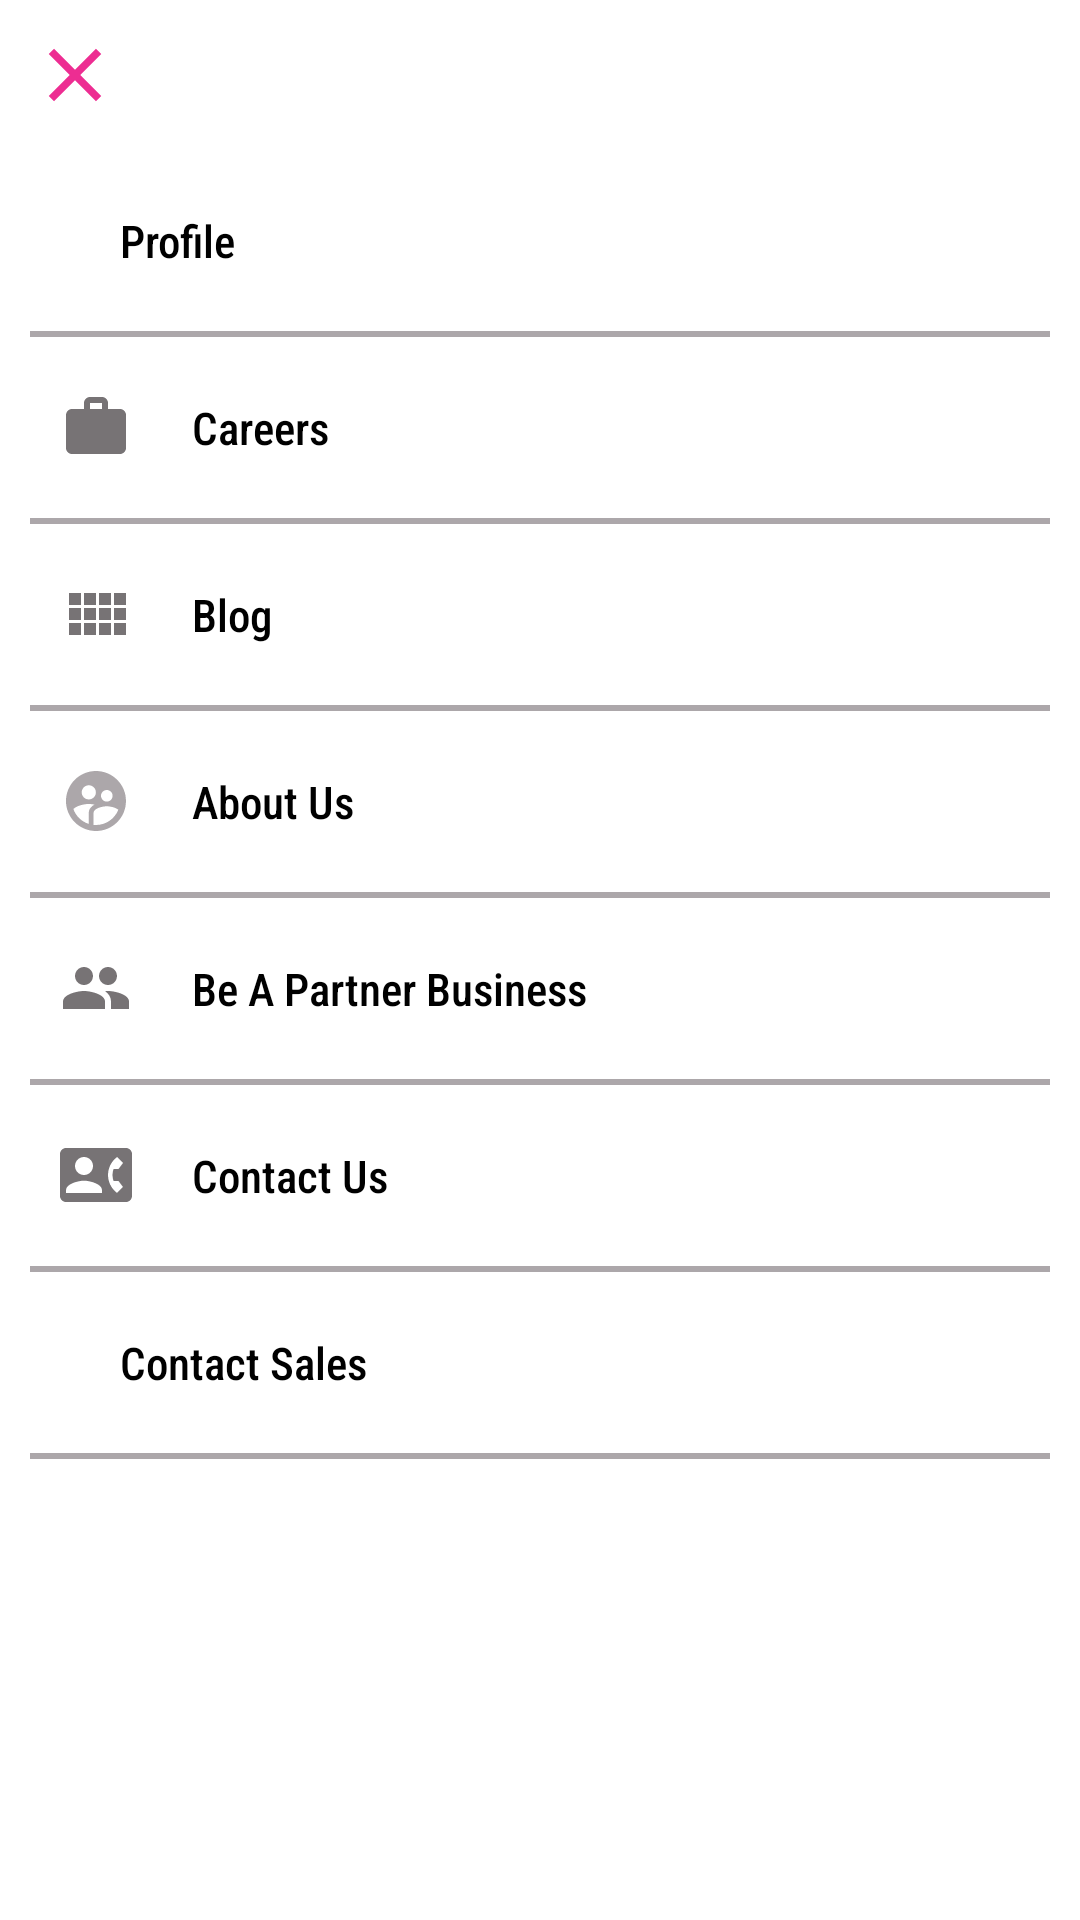

Icons on this 1080w x 1920h Android screen, each with its box as [x1,y1,x2,y2]:
carrer: [66,397,126,454]
clear: [49,49,101,101]
